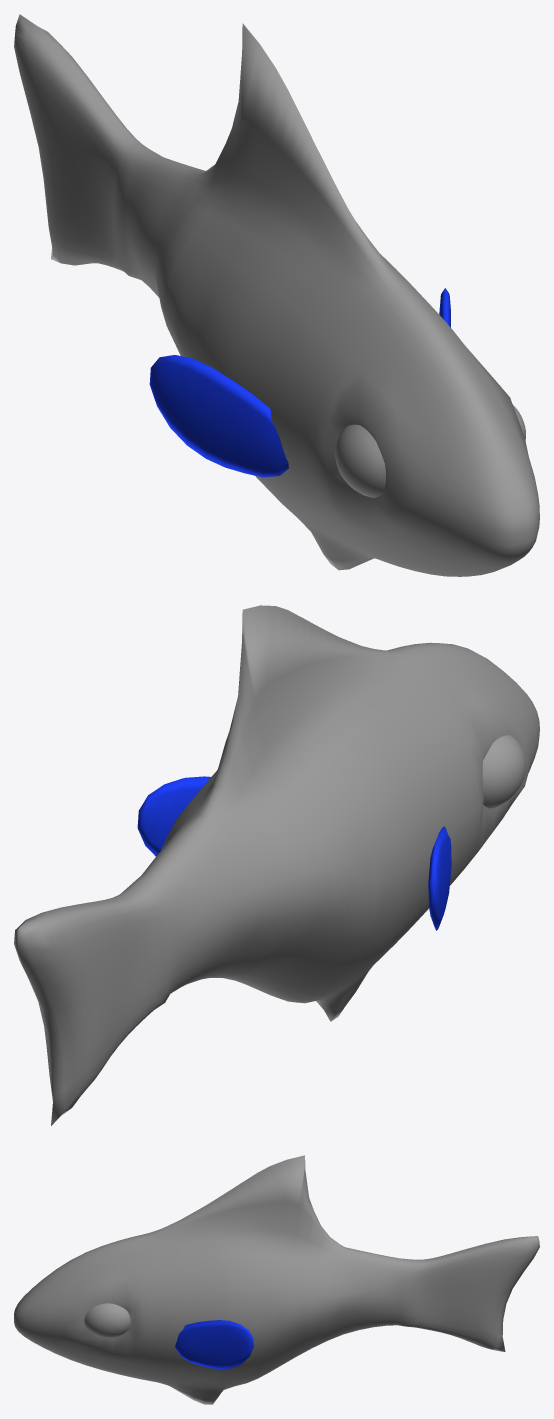
File: SnoopitFish_Model_FBX_02.fbx
3 renders of one model, top to bottom at view 1: azimuth 30°, elevation 25°; view 2: azimuth 150°, elevation 25°; view 3: azimuth 270°, elevation 25°, orthographic. The views are drawn at different scales.
Visible parts, largest first — view 1: SkullyFish; view 2: SkullyFish; view 3: SkullyFish.
Part boxes in pixels (x1,y1,x2,y2): SkullyFish: [14, 14, 539, 576]; SkullyFish: [14, 605, 539, 1125]; SkullyFish: [14, 1155, 539, 1404].
Bounding box in the file's own units: 53.92 × 82.73 × 158.
